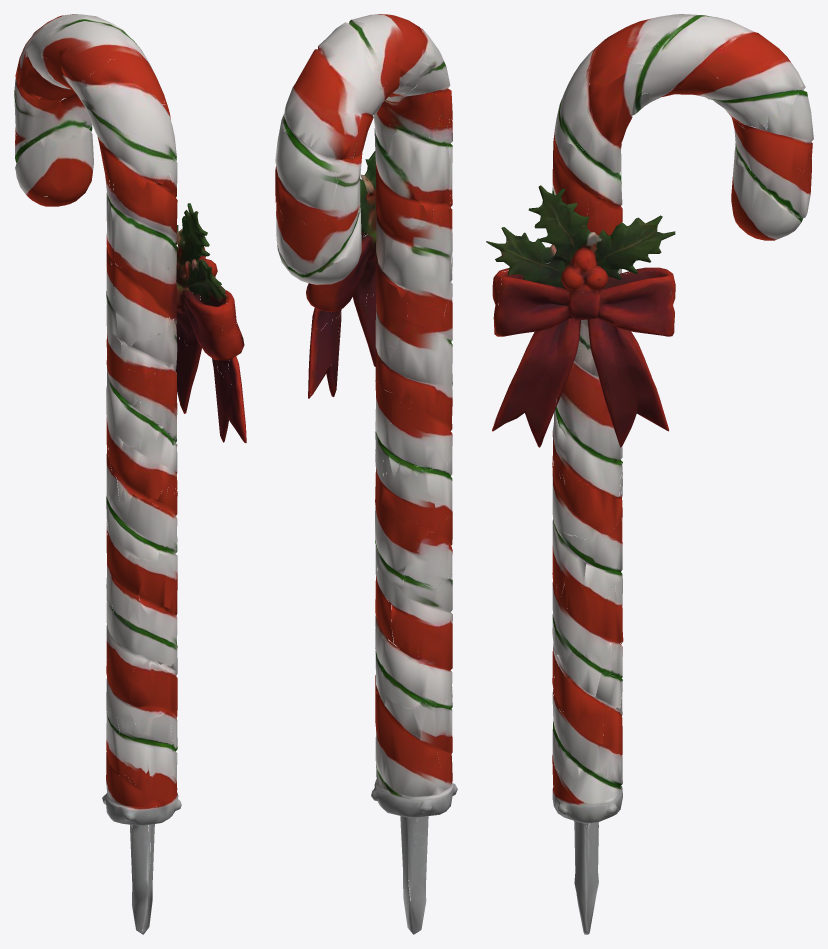
File: lt_candycane.glb
The picture shows the model from 3 angles, left to right: view 1: azimuth 30°, elevation 25°; view 2: azimuth 150°, elevation 25°; view 3: azimuth 270°, elevation 25°; orthographic projection. The views are drawn at different scales.
Parts seen in each view (by area): view 1: tripo_node_be692815-39db-4585-937a-18f3c7447a00; view 2: tripo_node_be692815-39db-4585-937a-18f3c7447a00; view 3: tripo_node_be692815-39db-4585-937a-18f3c7447a00.
Part boxes in pixels (box(x1,y1,x2,y2)): tripo_node_be692815-39db-4585-937a-18f3c7447a00: box(14, 14, 246, 934); tripo_node_be692815-39db-4585-937a-18f3c7447a00: box(275, 14, 457, 934); tripo_node_be692815-39db-4585-937a-18f3c7447a00: box(486, 14, 813, 934).
Bounding box in the file's own units: 0.1228 × 1 × 0.3239.
1 material, 1 textured.
